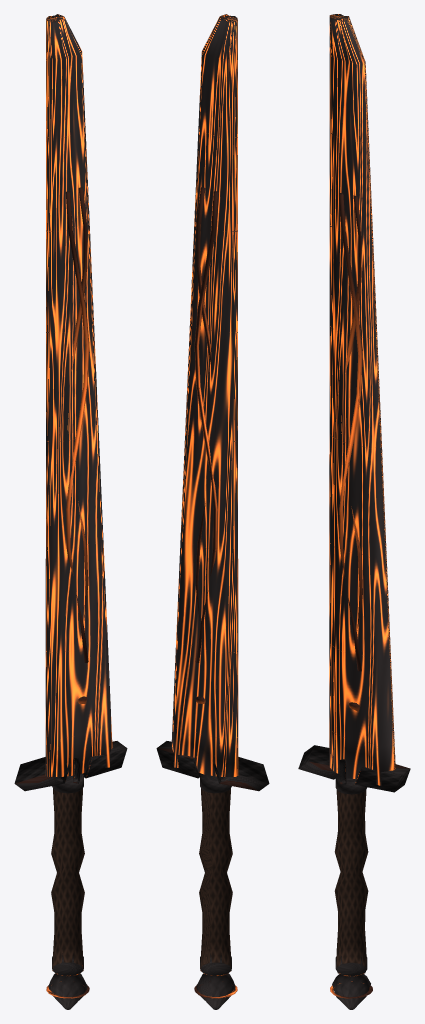
The model's file is sword_07_magma_vein.glb.
The picture shows the model from 3 angles, left to right: view 1: azimuth 30°, elevation 25°; view 2: azimuth 150°, elevation 25°; view 3: azimuth 330°, elevation 25°; orthographic projection.
Visible parts, largest first — view 1: Blade_MagmaVeinBroadsword, Grip_LavaWrappedHilt, Inlay_MagmaCracks, Guard_BasaltSlabs, Pommel_VolcanicBomb, Ferrule_CoolBasalt; view 2: Blade_MagmaVeinBroadsword, Grip_LavaWrappedHilt, Inlay_MagmaCracks, Guard_BasaltSlabs, Pommel_VolcanicBomb, Ferrule_CoolBasalt; view 3: Blade_MagmaVeinBroadsword, Grip_LavaWrappedHilt, Inlay_MagmaCracks, Guard_BasaltSlabs, Pommel_VolcanicBomb, Ferrule_CoolBasalt.
Part boxes in pixels (box(x1,y1,x2,y2)): Blade_MagmaVeinBroadsword: box(45, 14, 112, 776); Grip_LavaWrappedHilt: box(51, 777, 84, 976); Inlay_MagmaCracks: box(65, 187, 89, 662); Guard_BasaltSlabs: box(14, 741, 127, 791); Pommel_VolcanicBomb: box(46, 973, 89, 1009); Ferrule_CoolBasalt: box(52, 774, 83, 975); Blade_MagmaVeinBroadsword: box(171, 14, 238, 776); Grip_LavaWrappedHilt: box(199, 777, 232, 976); Inlay_MagmaCracks: box(194, 187, 218, 662); Guard_BasaltSlabs: box(156, 741, 269, 791); Pommel_VolcanicBomb: box(194, 973, 237, 1009); Ferrule_CoolBasalt: box(200, 774, 231, 975); Blade_MagmaVeinBroadsword: box(329, 14, 395, 785); Grip_LavaWrappedHilt: box(334, 774, 368, 976); Inlay_MagmaCracks: box(339, 193, 362, 671); Guard_BasaltSlabs: box(298, 745, 410, 792); Pommel_VolcanicBomb: box(330, 974, 372, 1009); Ferrule_CoolBasalt: box(335, 773, 367, 975).
Size of the model in its own units: 0.2814 by 2.6 by 0.1077.
1 material, 1 textured.
